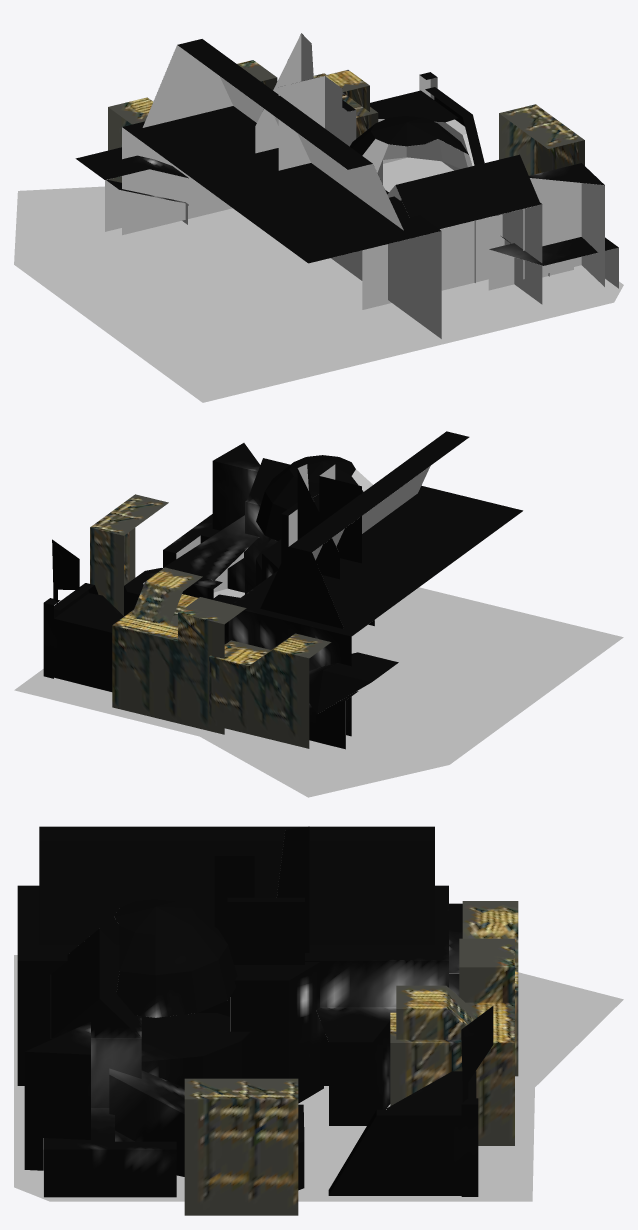
Rendered from T_Embassy_01.fbx.
3 renders of one model, top to bottom at view 1: azimuth 30°, elevation 25°; view 2: azimuth 150°, elevation 25°; view 3: azimuth 270°, elevation 25°, orthographic. The views are drawn at different scales.
Visible parts, largest first — view 1: T_Embassy_01, FX_Territory_NightGlow, T_BuildForm_02 (4), T_BuildForm_01, T_BuildForm_03 (1); view 2: FX_Territory_NightGlow, T_Embassy_01, T_BuildForm_01, T_BuildForm_03 (1), T_BuildForm_02 (4); view 3: FX_Territory_NightGlow, T_Embassy_01, T_BuildForm_02 (4), T_BuildForm_01, T_BuildForm_03 (1).
Part boxes in pixels (<box>): T_Embassy_01: <box>14,33,623,402</box>; FX_Territory_NightGlow: <box>75,34,618,265</box>; T_BuildForm_02 (4): <box>499,104,584,175</box>; T_BuildForm_01: <box>237,60,378,137</box>; T_BuildForm_03 (1): <box>108,97,153,182</box>; FX_Territory_NightGlow: <box>43,431,522,749</box>; T_Embassy_01: <box>14,464,623,797</box>; T_BuildForm_01: <box>112,567,246,734</box>; T_BuildForm_03 (1): <box>209,633,331,748</box>; T_BuildForm_02 (4): <box>90,494,168,615</box>; FX_Territory_NightGlow: <box>17,826,493,1197</box>; T_Embassy_01: <box>14,955,623,1201</box>; T_BuildForm_02 (4): <box>184,1078,298,1215</box>; T_BuildForm_01: <box>390,938,514,1145</box>; T_BuildForm_03 (1): <box>462,901,518,1076</box>.
Size of the model in its own units: 12.38 by 5.93 by 12.4.
